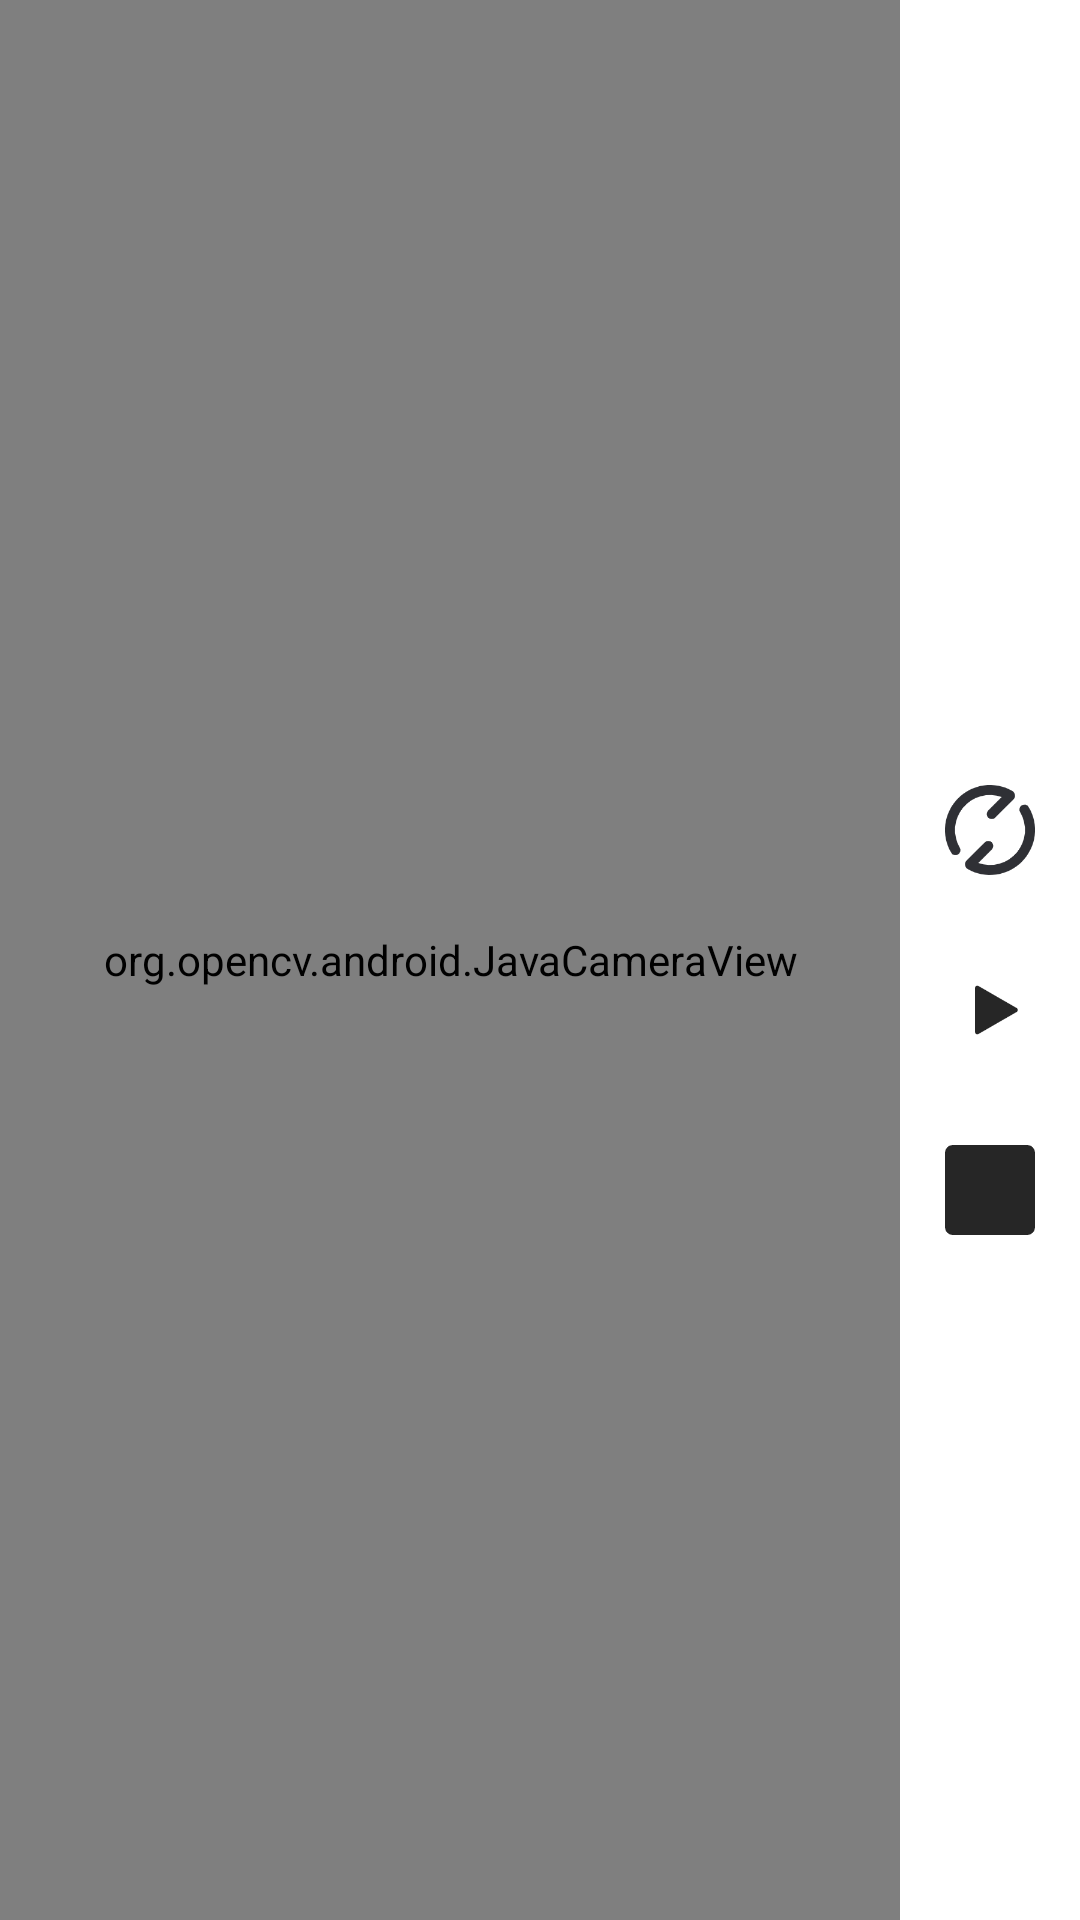

Locate icon controls on the screen. Image size 1080px×1920px, boxes as (x1, y1, x2, y2).
start: (975, 985, 1018, 1035)
switch: (945, 785, 1035, 875)
